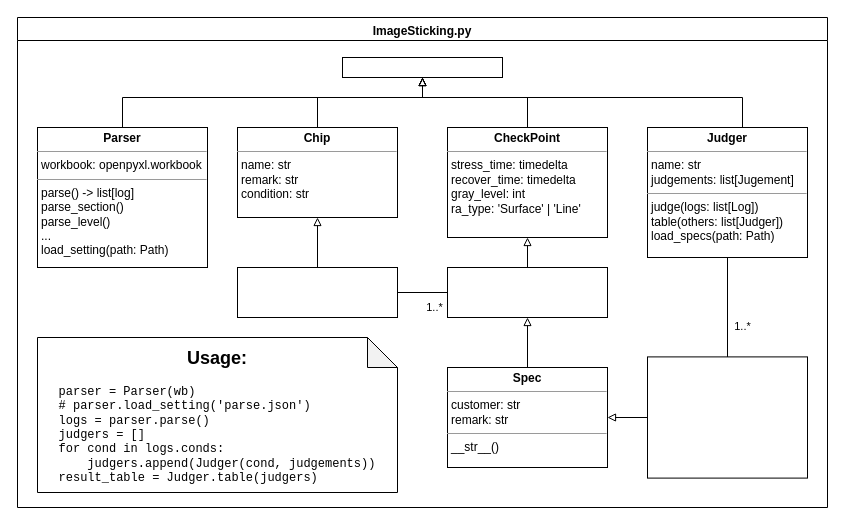
The diagram is 845 pixels wide and 525 high, and some of its shapes have lost their labels. The shapes that lost their labels are listed below. From the top down, each one's box as (x1, y1, x2, y2) in pixels, then its label:
(342, 56, 502, 78): Pydantic.BaseModel
(236, 266, 398, 318): Log log: list[ImageStickingBase]
(446, 266, 608, 318): ImageStickingBase ra_level: int
(646, 356, 808, 478): Judgement pass: bool ok: int ng: int total() yeild()
